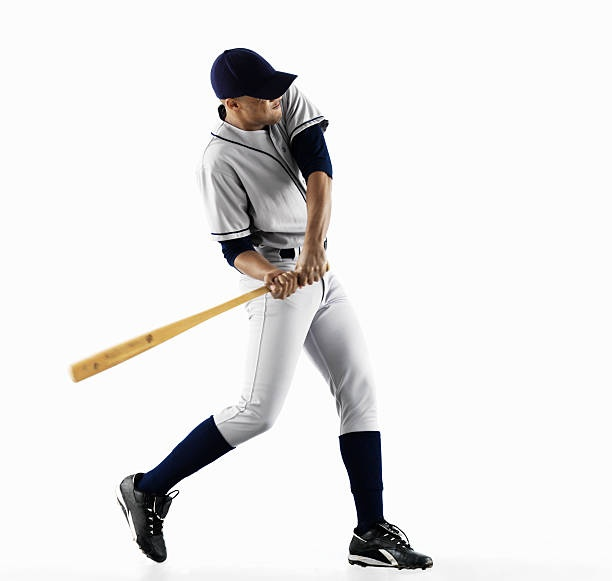bita: (72, 274, 300, 380)
